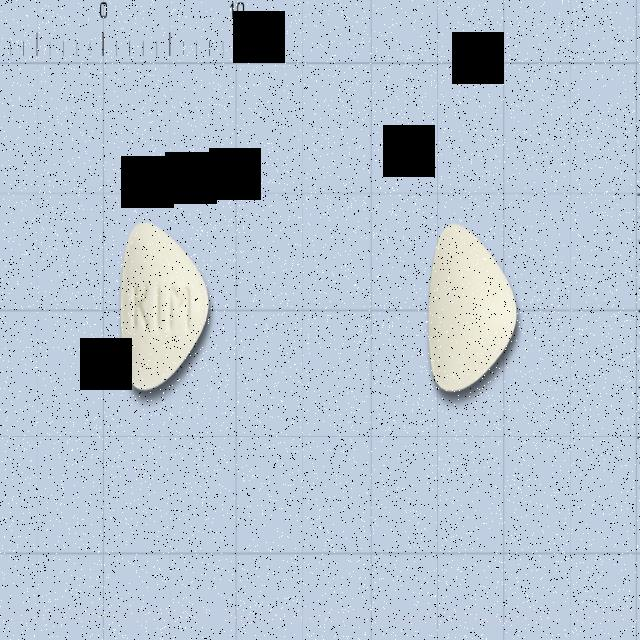Kimara - 20mg: (120, 221, 210, 392)
